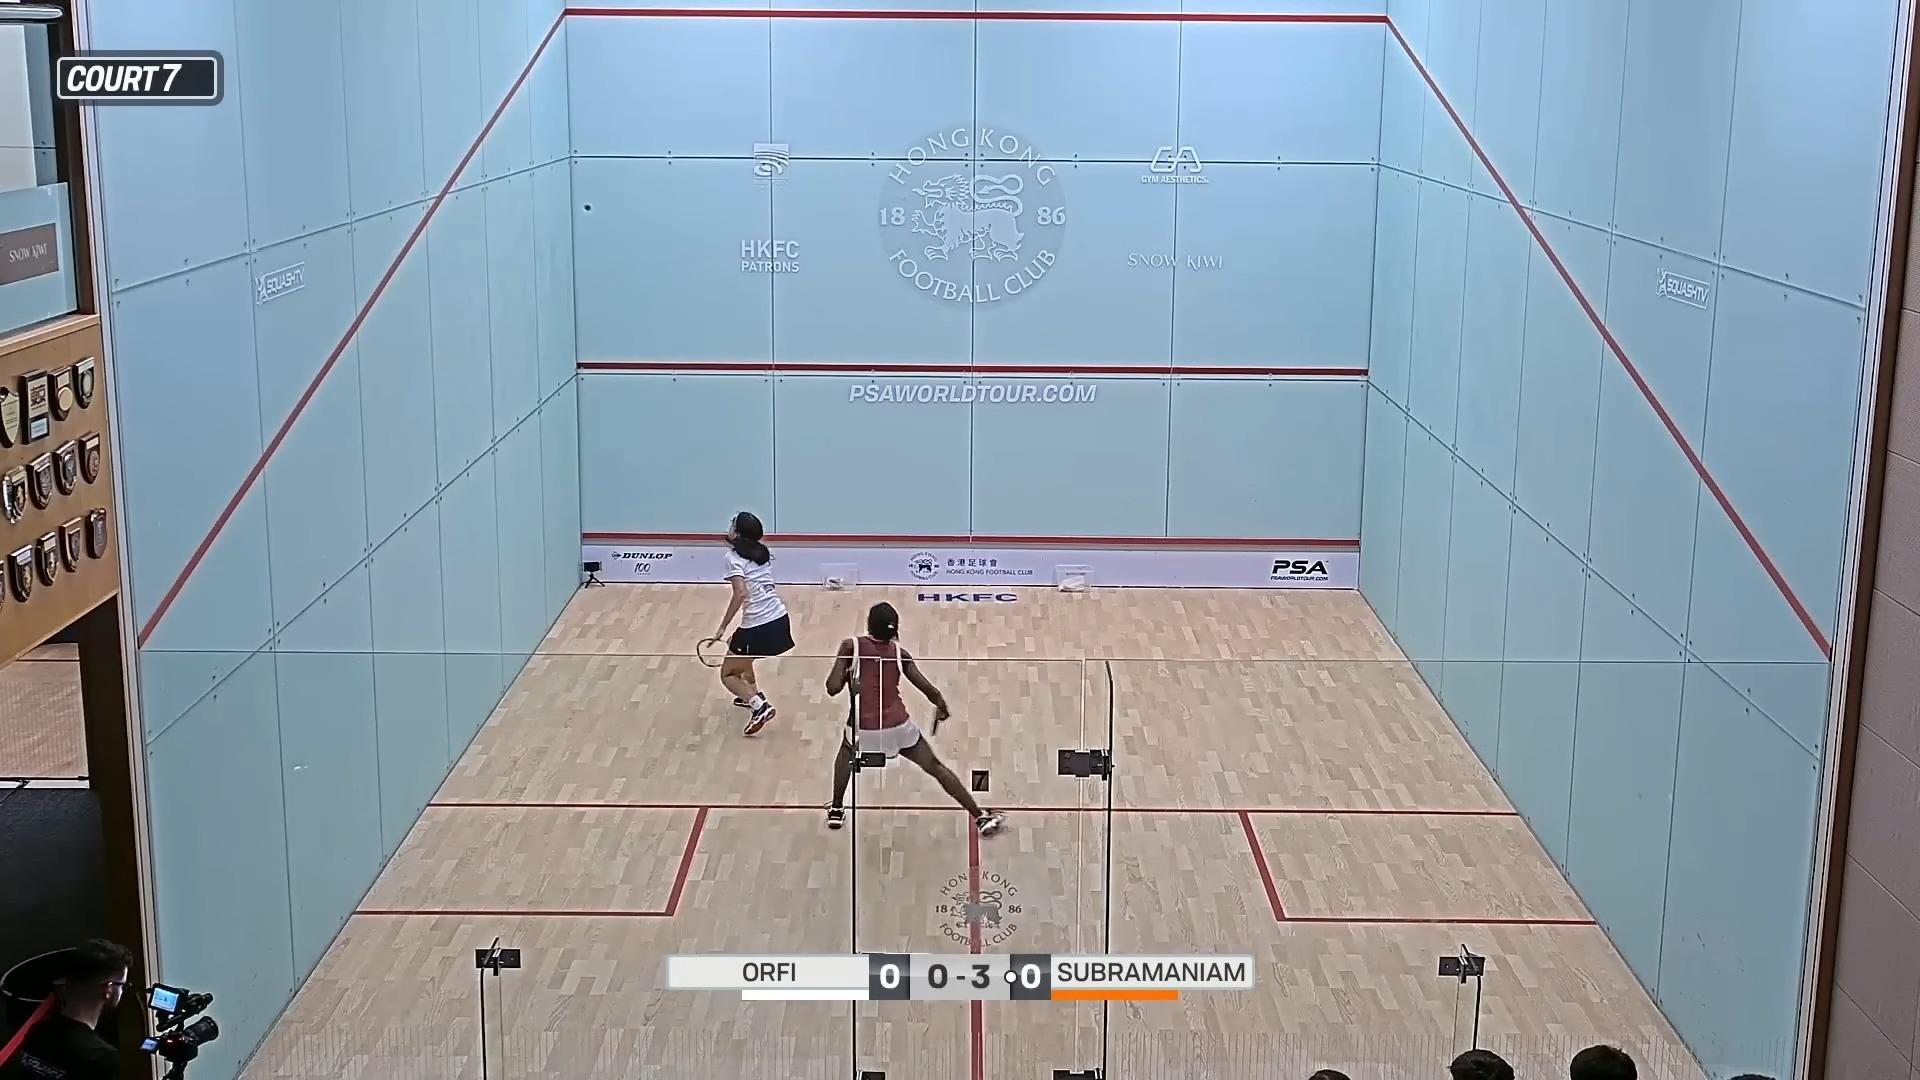Squash-Ball: (575, 199, 601, 223)
